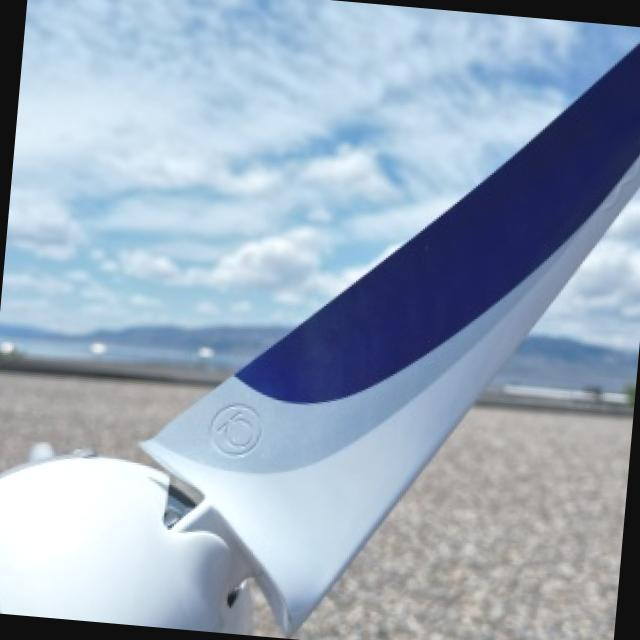healthy: (0, 38, 640, 632)
